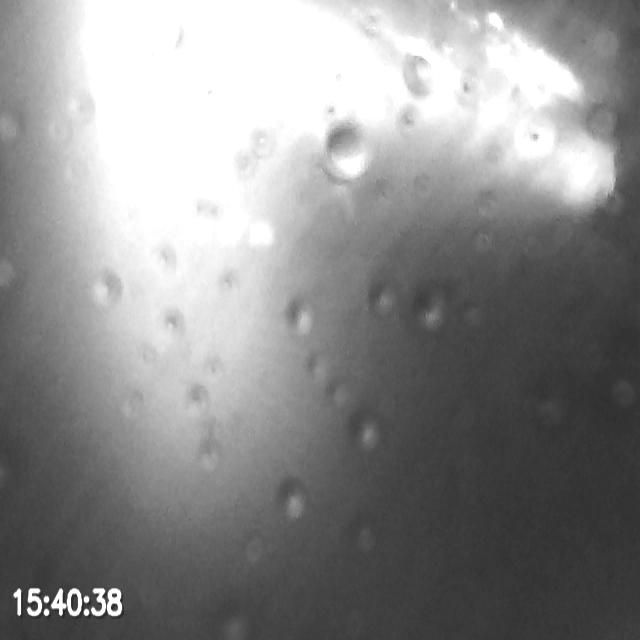white-dots: (186, 212, 277, 249)
